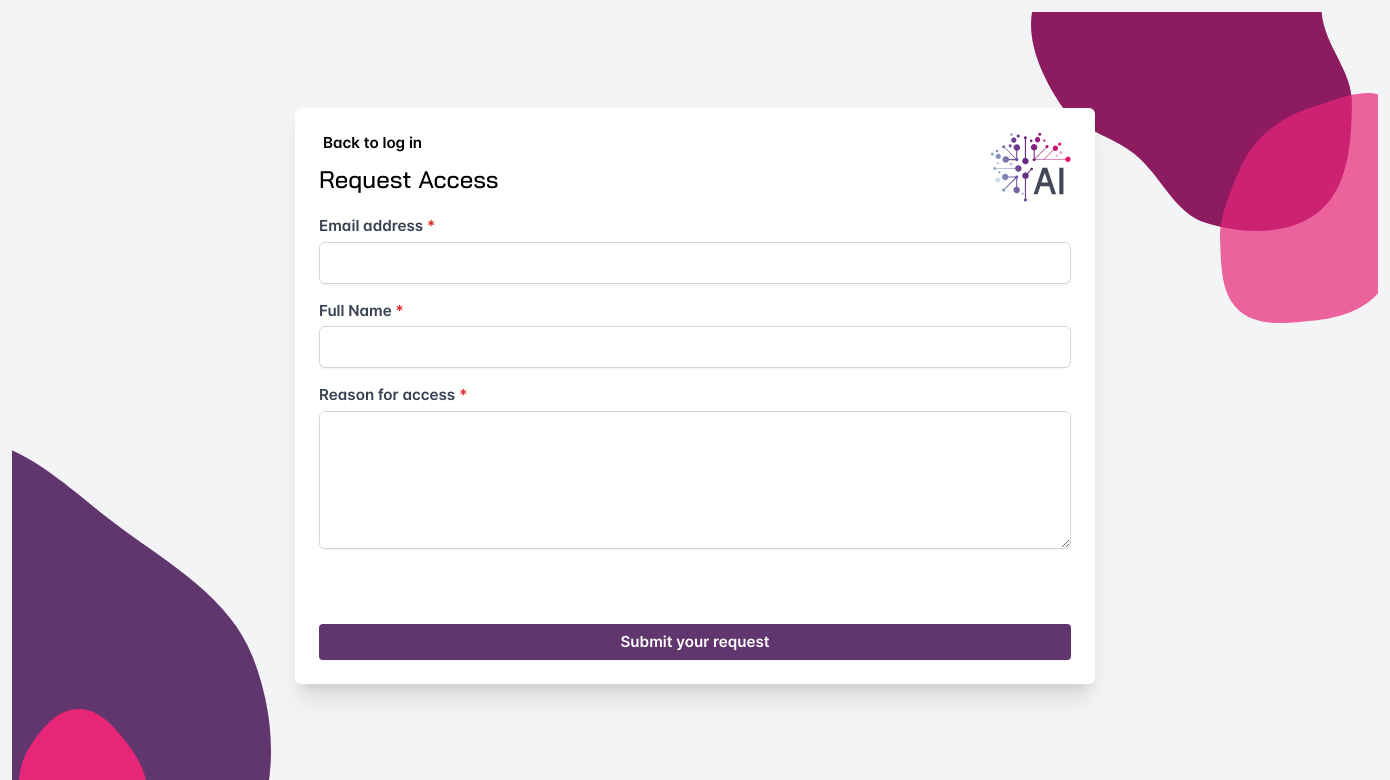
Test: Access request page › should not be able to submit a form with no inputs
The width and height of the screenshot is (1390, 780).
Expected: the field with test id "email-input" is shown, [319,242,1071,284]
Expected: the field with test id "full-name-input" is shown, [319,326,1071,368]
Click the button with test id "submit-access-request-btn" at [695, 642], box [319,624,1071,660]
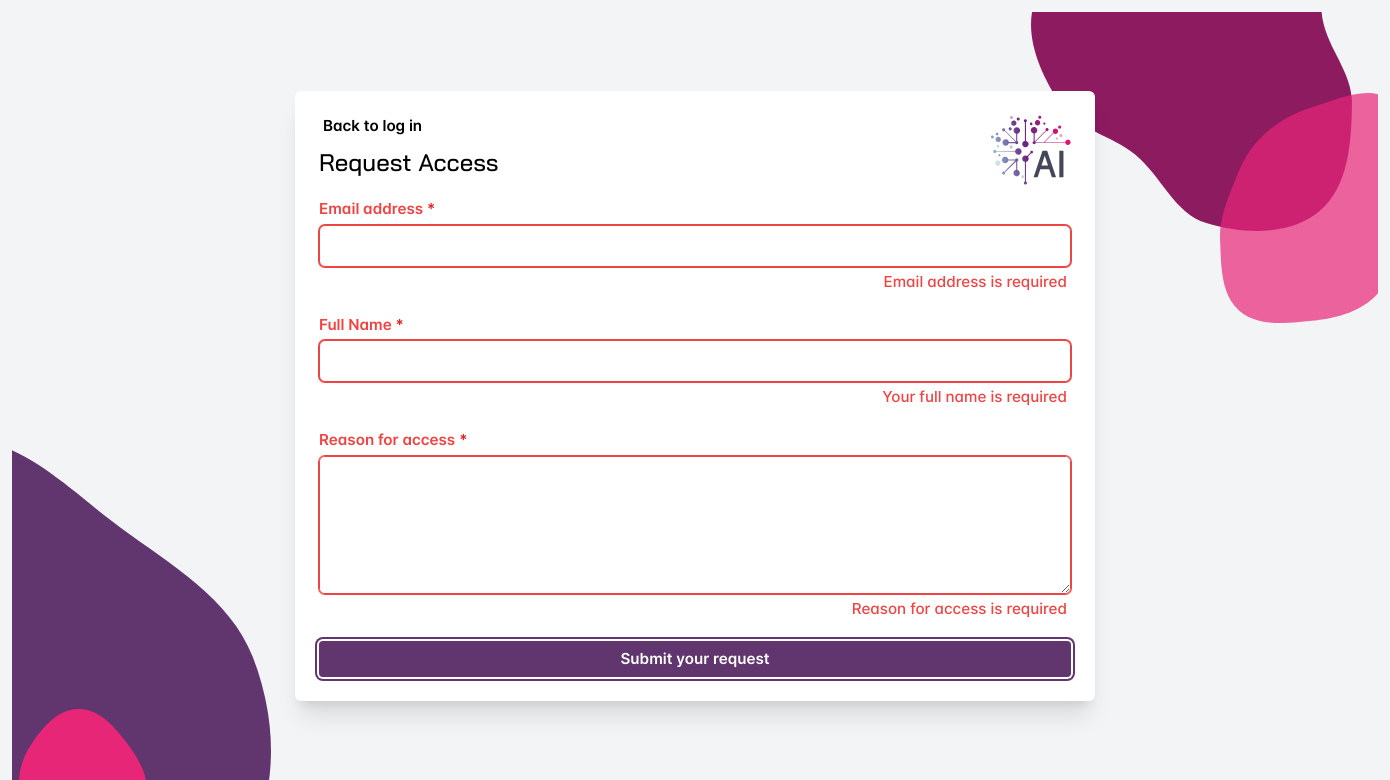
Now the text "Email address is required" is shown, box [884,272,1067,291]
Now the text "Your full name is required" is shown, box [882,387,1067,406]
Now the text "Reason for access is required" is shown, box [852,599,1067,618]
